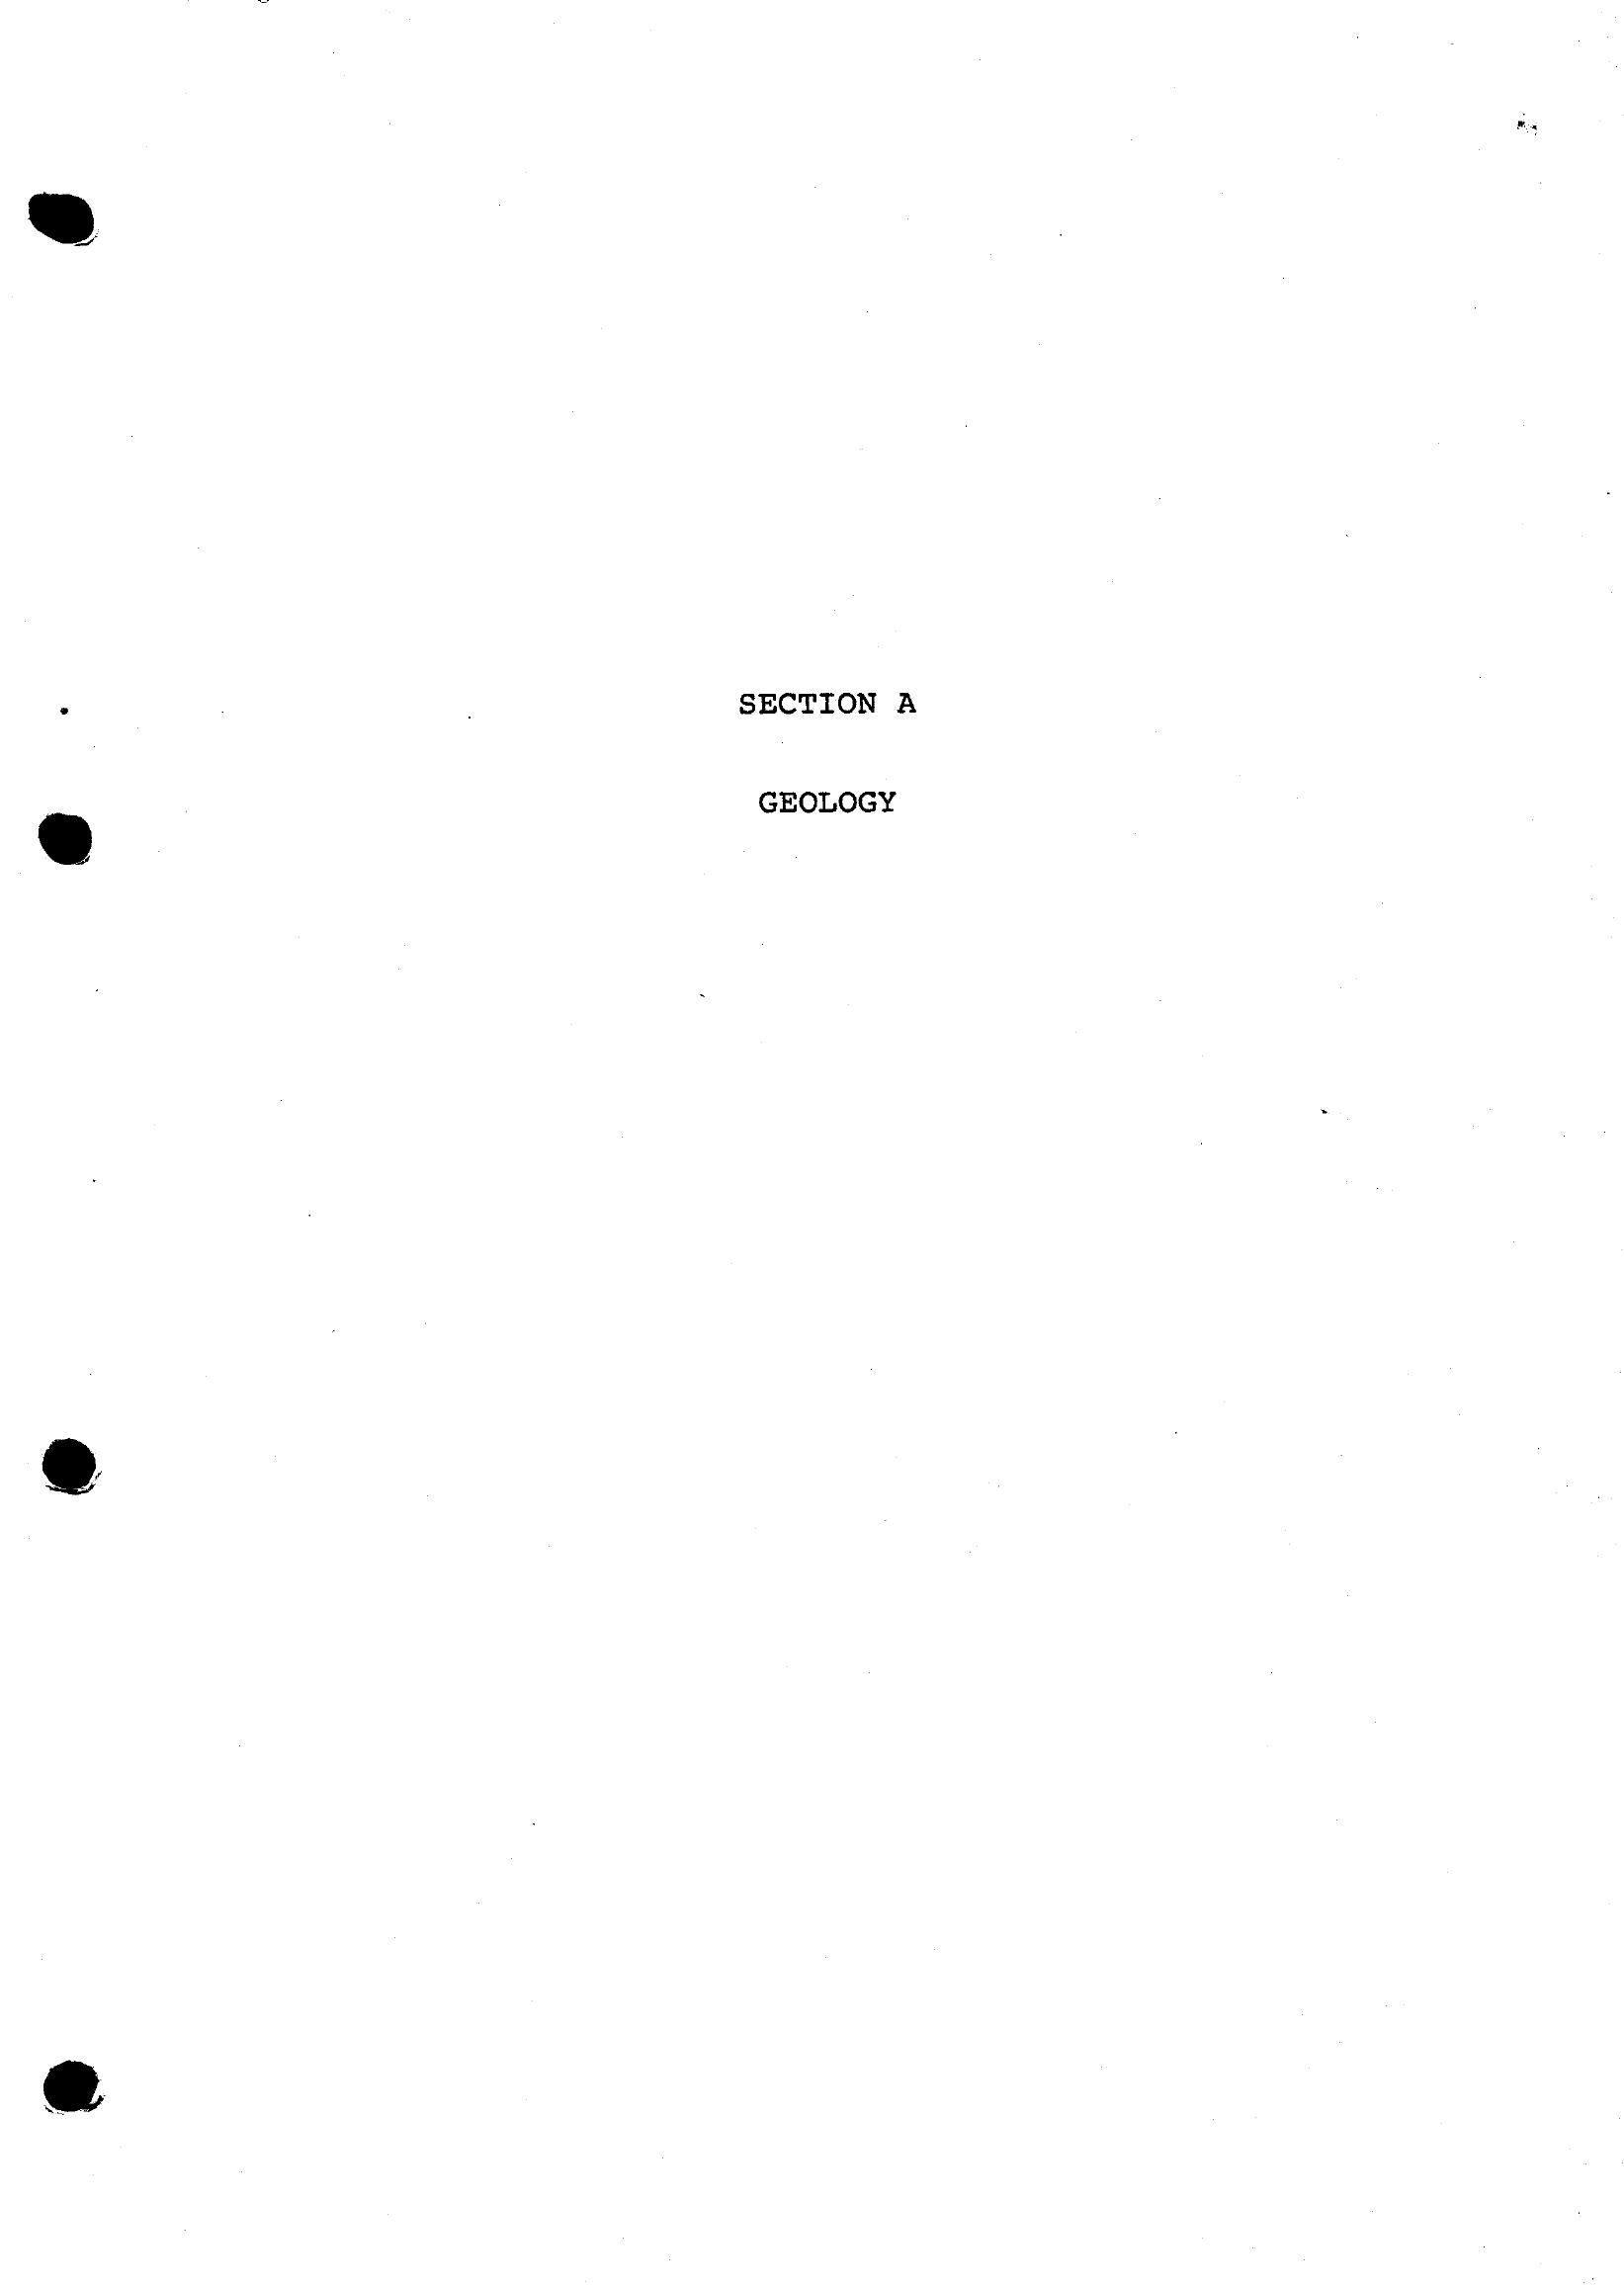text: (696, 647, 1004, 865)
